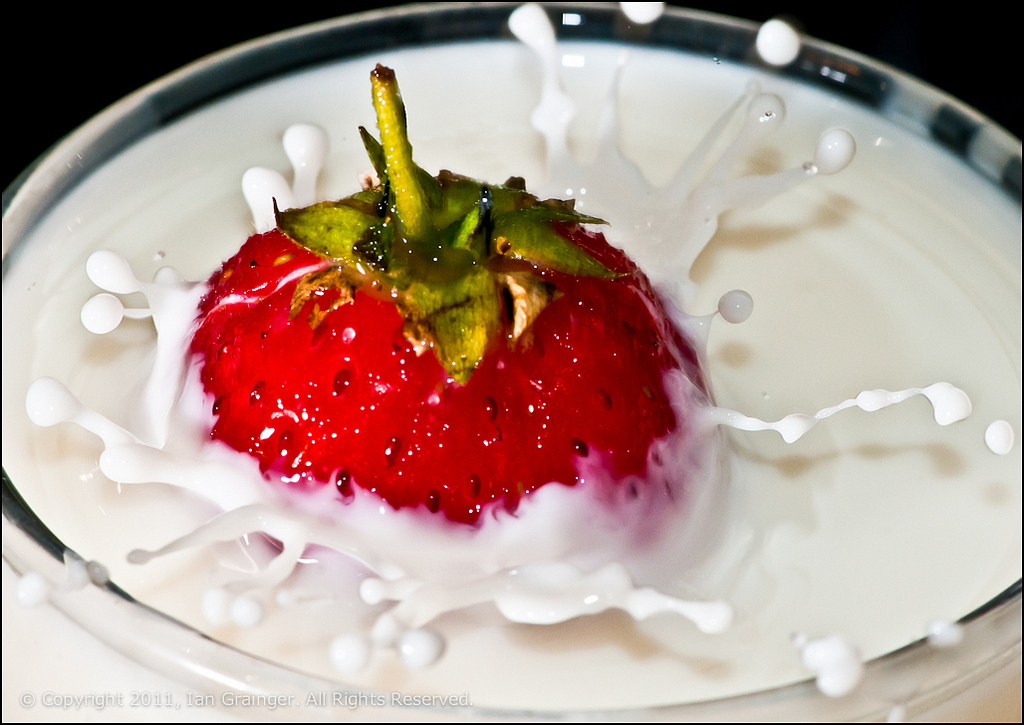glass of milk: (10, 35, 1023, 708)
